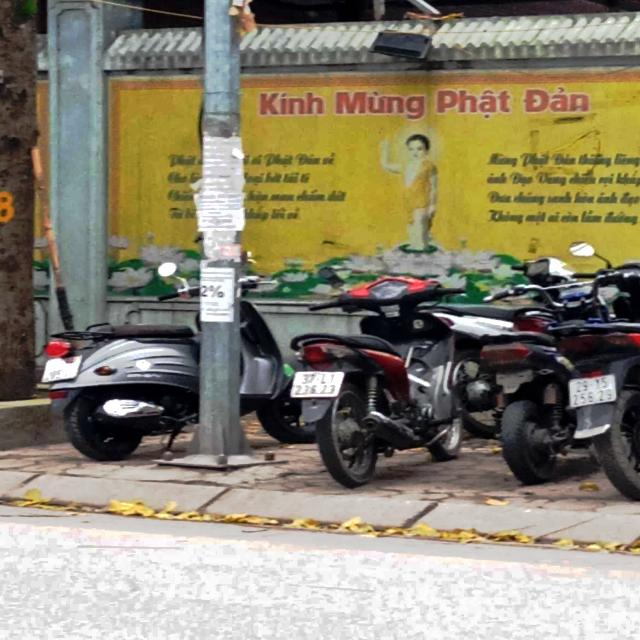license_plate: (568, 374, 620, 412), (294, 372, 343, 398)
